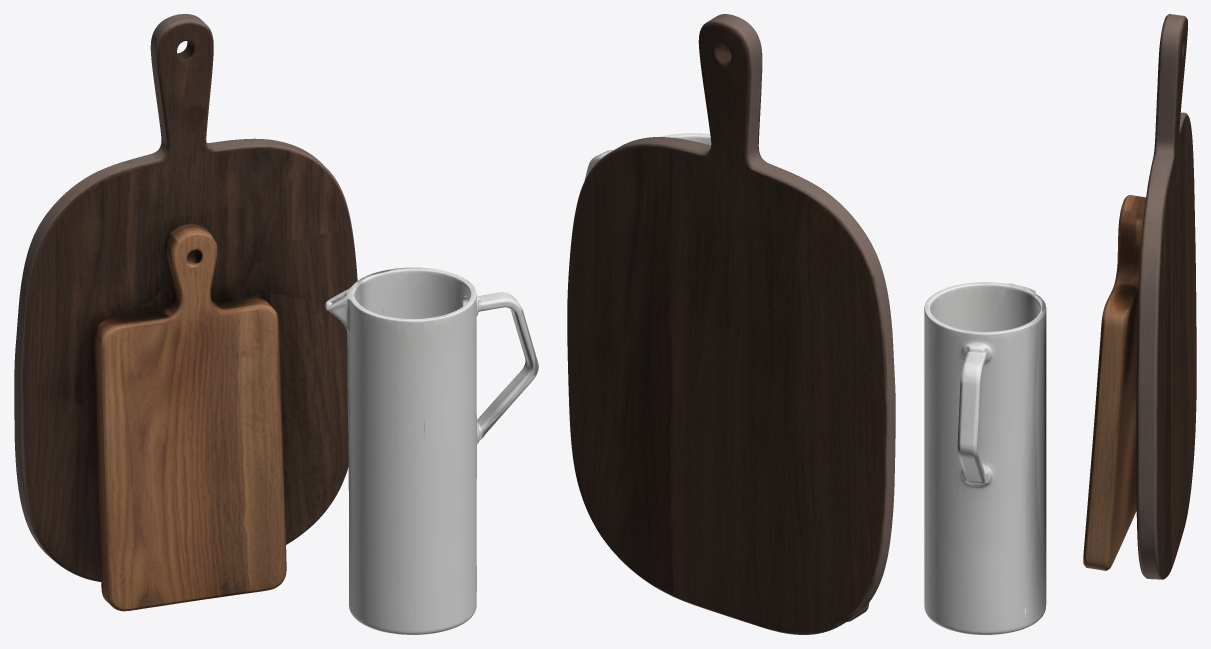
File: kitchen_props.glb
3 renders of one model, left to right at view 1: azimuth 30°, elevation 25°; view 2: azimuth 150°, elevation 25°; view 3: azimuth 270°, elevation 25°, orthographic. The views are drawn at different scales.
Parts seen in each view (by area): view 1: node_0; view 2: node_0; view 3: node_0.
Part boxes in pixels (x1,y1,x2,y2): node_0: (14,14,538,634); node_0: (567,14,895,634); node_0: (924,14,1196,634).
Size of the model in its own units: 0.7828 by 1.02 by 0.4749.
Materials: 1 (1 with a texture image).
